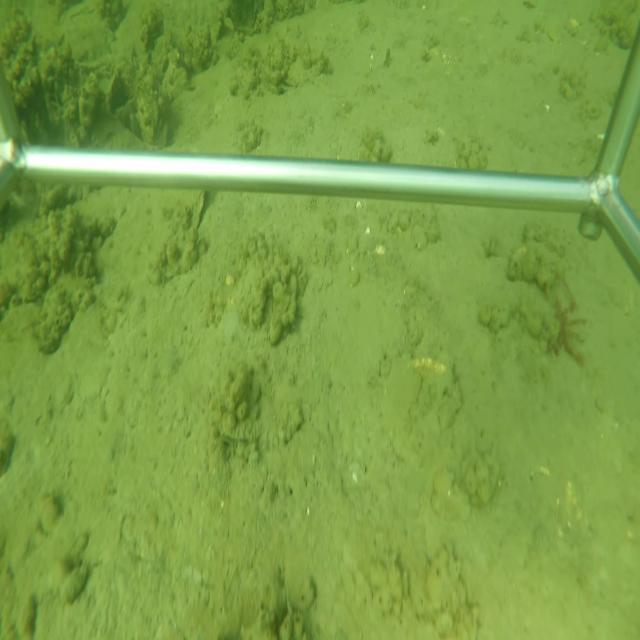Oyster-Indeterminate: (191, 190, 207, 235), (106, 71, 123, 111)
